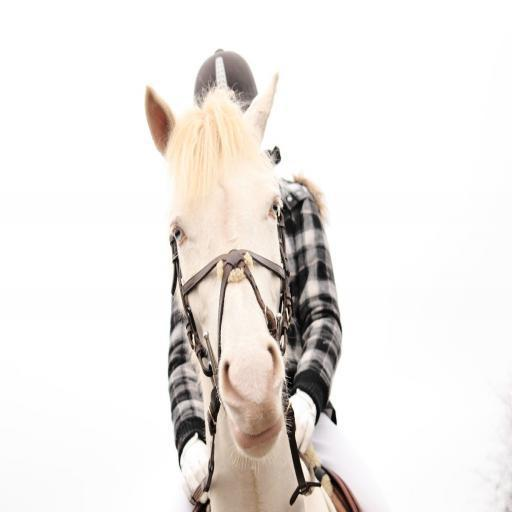horse: (144, 85, 360, 512)
